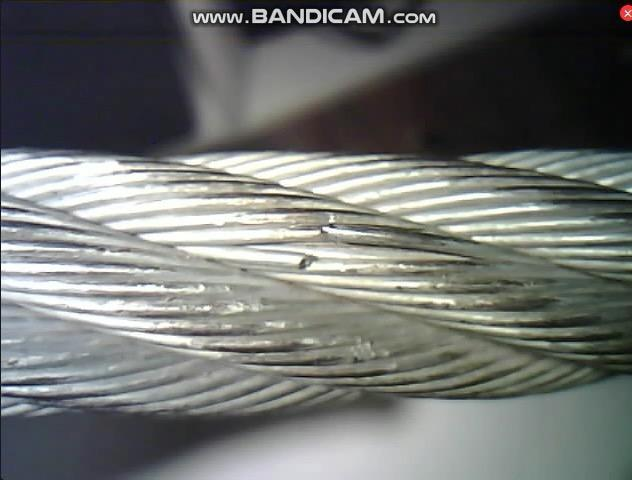break: (280, 221, 362, 281)
